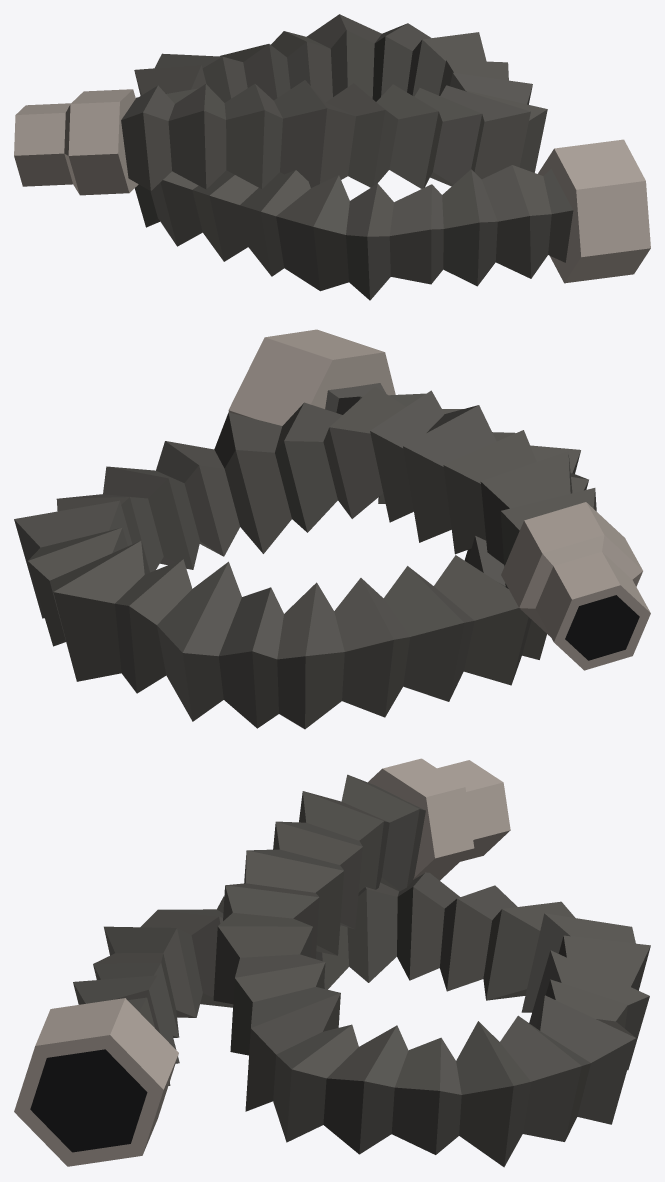
The model's file is SM_Corrugation.gltf.
3 renders of one model, top to bottom at view 1: azimuth 30°, elevation 25°; view 2: azimuth 150°, elevation 25°; view 3: azimuth 270°, elevation 25°, orthographic. The views are drawn at different scales.
Visible parts, largest first — view 1: SM_Corrugation; view 2: SM_Corrugation; view 3: SM_Corrugation.
Part boxes in pixels (x1=…): SM_Corrugation: x1=14, y1=14, x2=650, y2=300; SM_Corrugation: x1=14, y1=329, x2=650, y2=729; SM_Corrugation: x1=14, y1=758, x2=650, y2=1167.
Bounding box in the file's own units: 0.339 × 0.11 × 0.329.
Materials: 1 (1 with a texture image).
